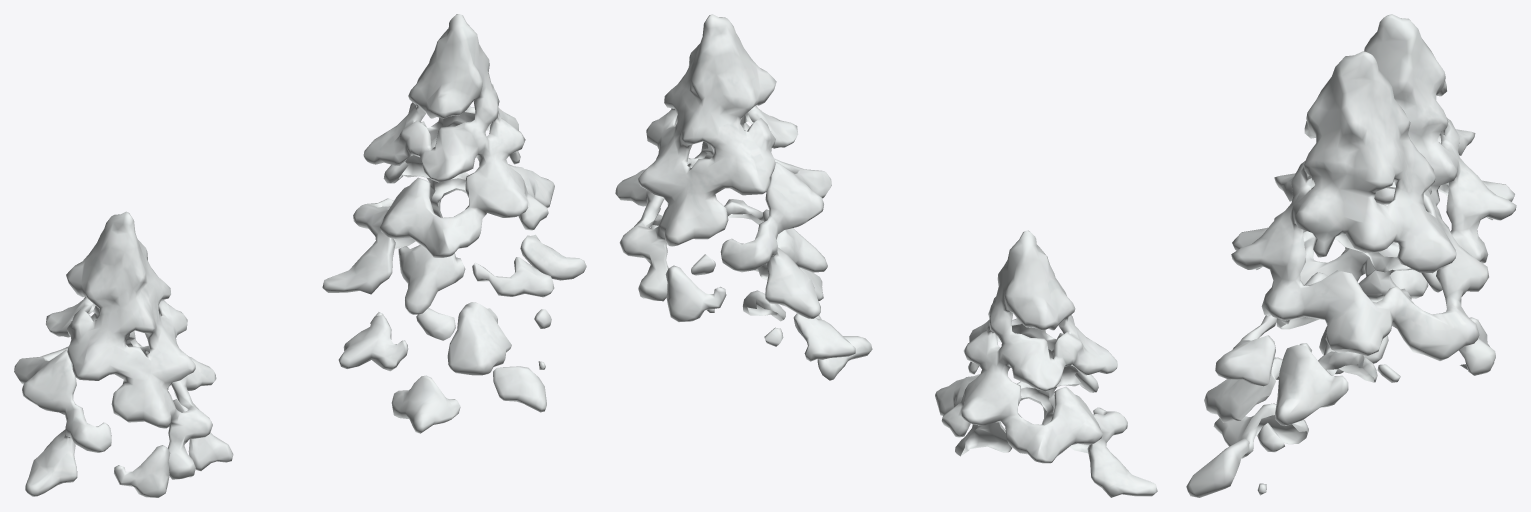
Rendered from ChristmasRoom_OutsideTreeSnow02.fbx.
3 renders of one model, left to right at view 1: azimuth 30°, elevation 25°; view 2: azimuth 150°, elevation 25°; view 3: azimuth 270°, elevation 25°, orthographic. The views are drawn at different scales.
Visible parts, largest first — view 1: ChristmasRoom_OutsideTreeSnow02; view 2: ChristmasRoom_OutsideTreeSnow02; view 3: ChristmasRoom_OutsideTreeSnow02.
Boxes of the visible parts, x1,y1,x2,y2 form: ChristmasRoom_OutsideTreeSnow02: [14, 14, 586, 497]; ChristmasRoom_OutsideTreeSnow02: [615, 14, 1157, 497]; ChristmasRoom_OutsideTreeSnow02: [1186, 14, 1516, 497].
Size of the model in its own units: 322 by 220 by 140.
